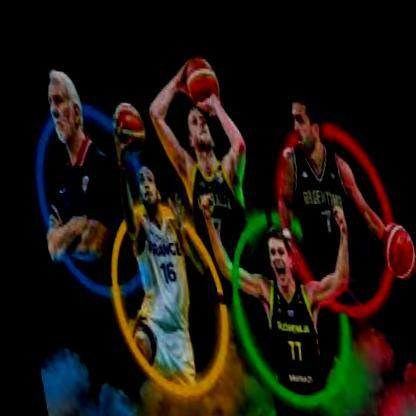basketball: (374, 203, 416, 275), (180, 41, 224, 108), (109, 94, 145, 150)
